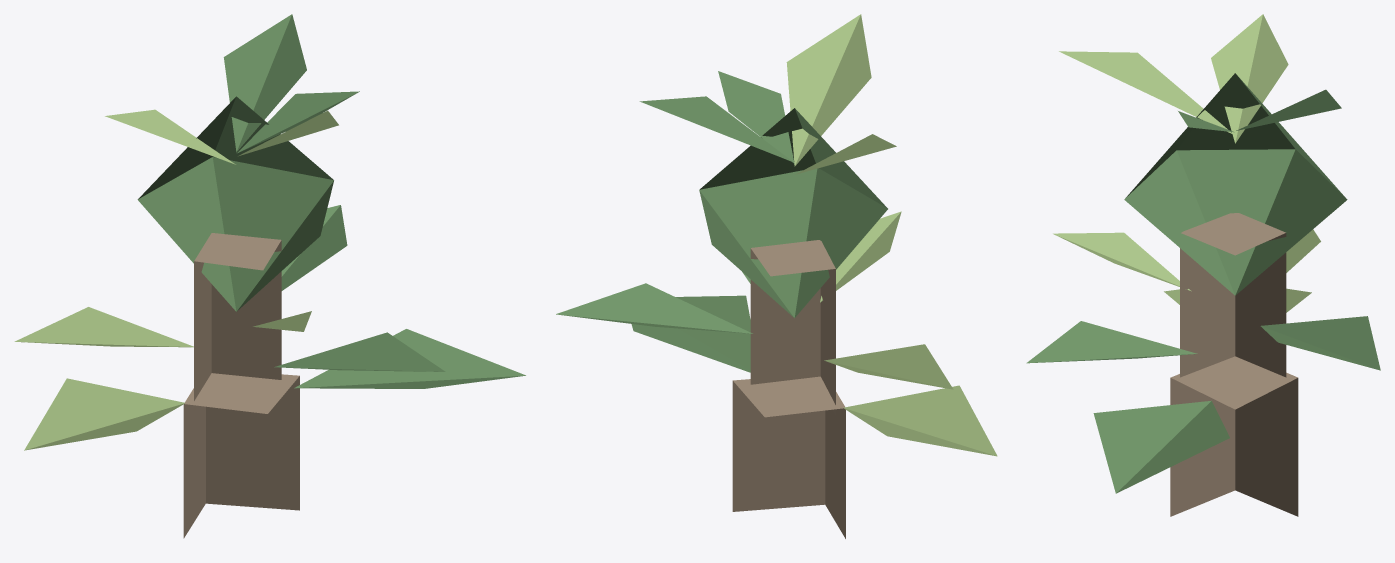
File: shui.lian@seedling__spring.glb
3 renders of one model, left to right at view 1: azimuth 30°, elevation 25°; view 2: azimuth 150°, elevation 25°; view 3: azimuth 270°, elevation 25°, orthographic. The views are drawn at different scales.
Visible parts, largest first — view 1: shui.lian@seedling__spring; view 2: shui.lian@seedling__spring; view 3: shui.lian@seedling__spring.
Boxes of the visible parts, x1,y1,x2,y2 form: shui.lian@seedling__spring: [14, 14, 525, 538]; shui.lian@seedling__spring: [556, 14, 997, 538]; shui.lian@seedling__spring: [1026, 14, 1380, 516].
Bounding box in the file's own units: 0.1182 × 0.117 × 0.0793.
